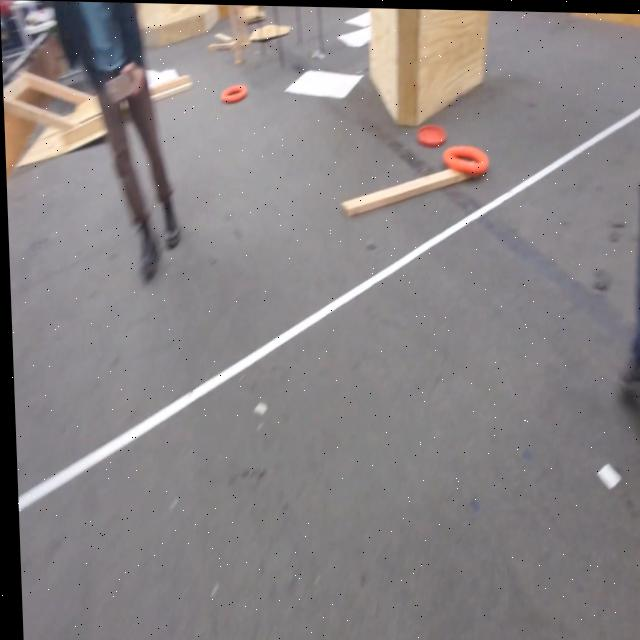note: (442, 142, 488, 173), (218, 84, 246, 106)
